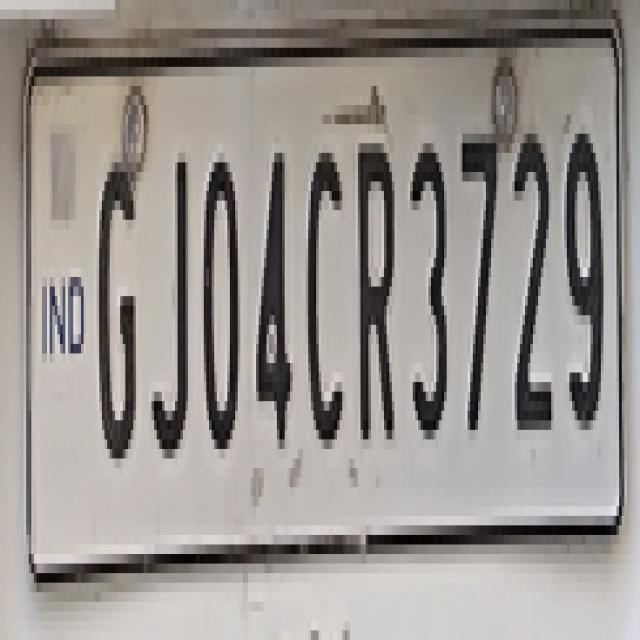0: (199, 154, 244, 473)
3: (404, 130, 452, 463)
4: (250, 154, 302, 473)
7: (452, 114, 508, 454)
9: (563, 124, 612, 432)
C: (304, 142, 359, 478)
G: (94, 152, 142, 475)
J: (148, 147, 195, 465)
R: (347, 124, 400, 460)
